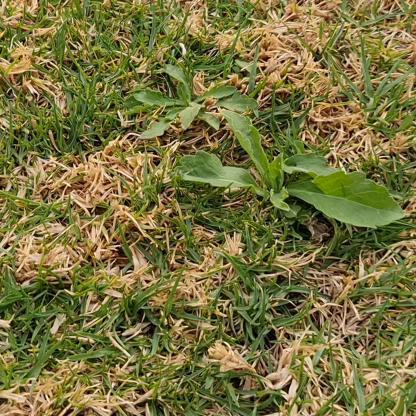Weeds: (175, 108, 406, 229), (126, 64, 258, 137)
